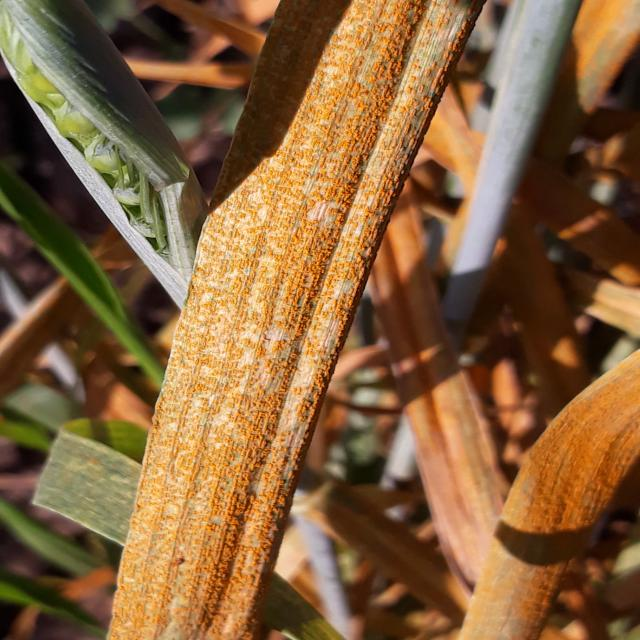yellow_rust: (72, 3, 476, 640), (432, 344, 639, 639), (492, 0, 639, 336)
